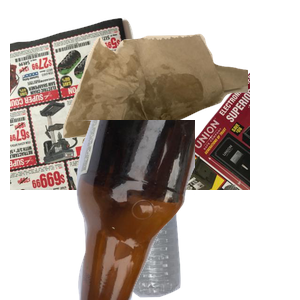glass: (60, 120, 300, 300)
paper: (10, 15, 250, 195)
plastic: (115, 176, 288, 300)
trash: (60, 31, 300, 189)
